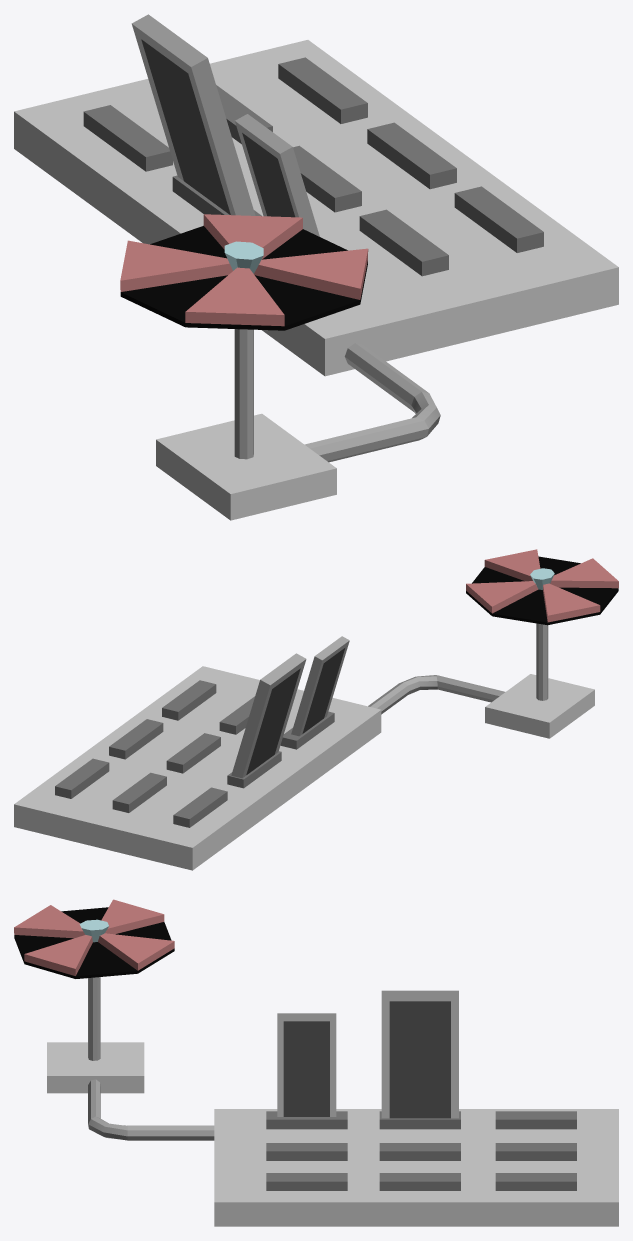
Rendered from Solar_ChargingStation.fbx.
3 views of the same model, one above another, from view 1: azimuth 30°, elevation 25°; view 2: azimuth 150°, elevation 25°; view 3: azimuth 270°, elevation 25° (orthographic). The views are drawn at different scales.
Parts seen in each view (by area): view 1: CharginStation; view 2: CharginStation; view 3: CharginStation.
Part boxes in pixels (x1,y1,x2,y2): CharginStation: (14,14,618,520); CharginStation: (14,549,618,870); CharginStation: (14,899,618,1226).
Size of the model in its own units: 5.33 by 2.1 by 7.44.
